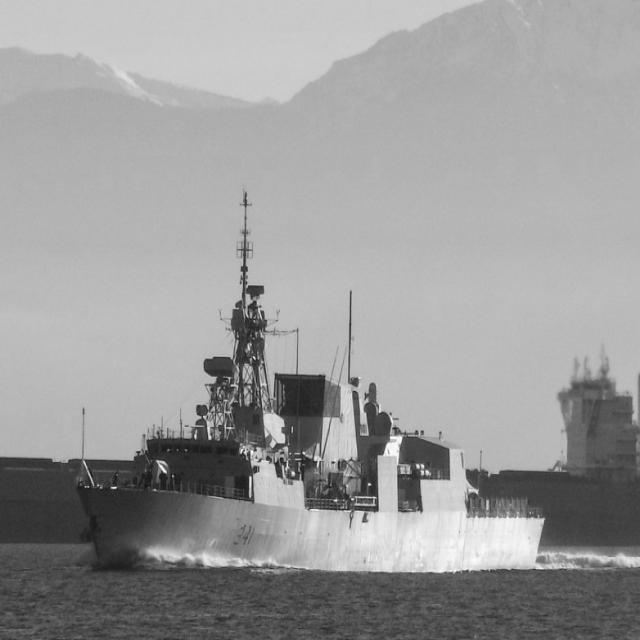Fragata: (75, 185, 549, 572)
